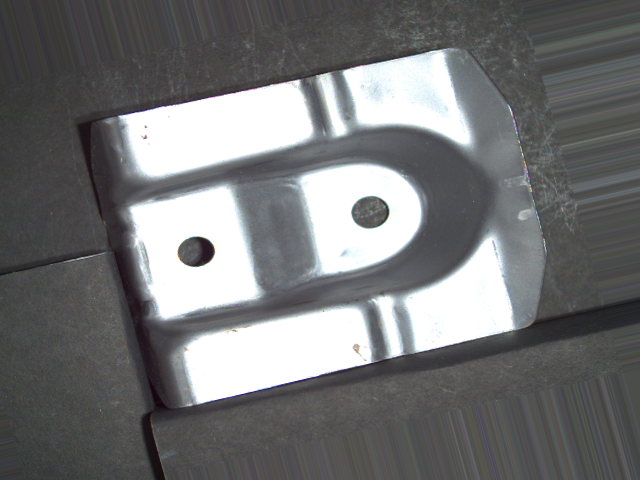defect: (344, 193, 396, 231)
